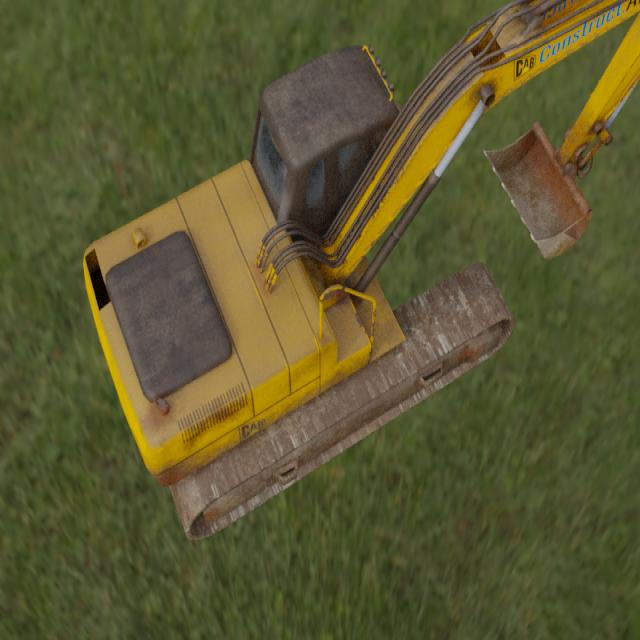excavator: (82, 0, 640, 543)
